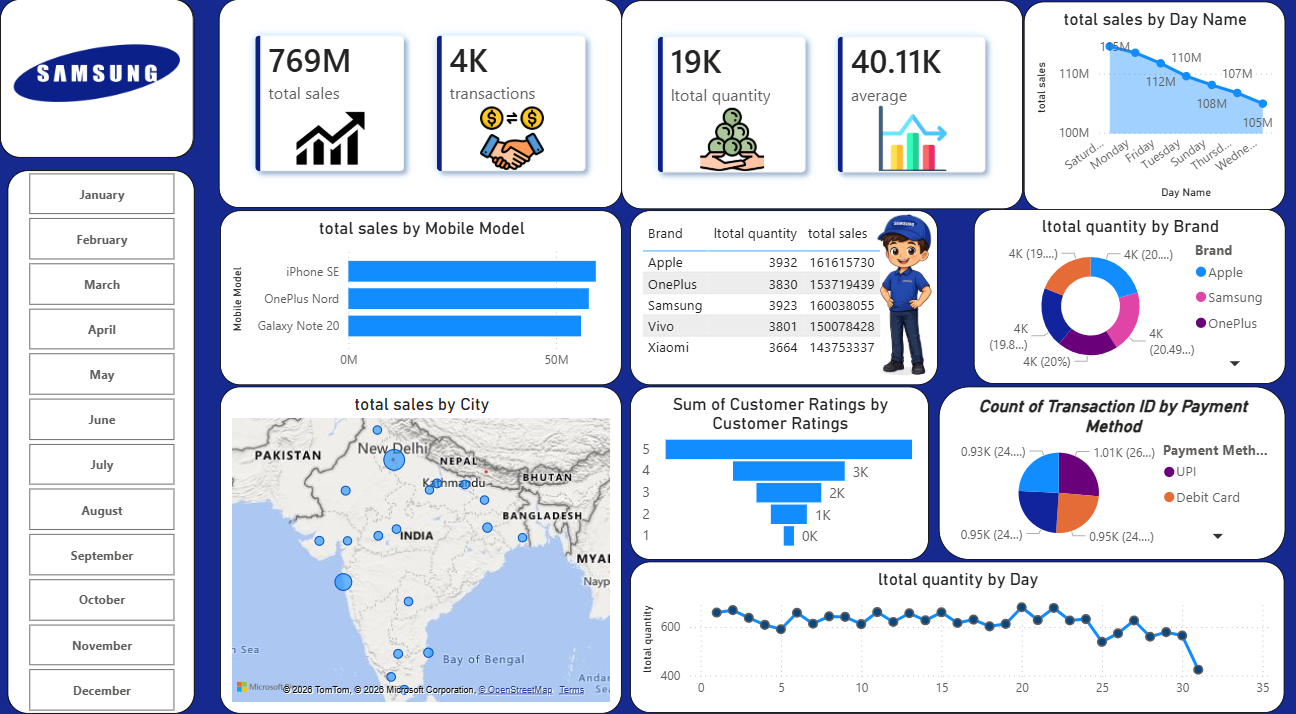

This screenshot's page, from the dashboard's own definition file:
{"tool":"powerbi","page":{"name":"Page 1","canvas":[1280,720],"ordinal":0},"visuals":[{"type":"shape","box":[0,0,191.8,156.8],"z":0},{"type":"image","box":[0,0,191.4,157.1],"z":1000},{"type":"shape","box":[7.2,168.9,184.6,536.9],"z":2000},{"type":"cardVisual","fields":{"Data":["sales data.total sales","sales data.transactions"]},"box":[216,0,398.1,206.3],"z":3000},{"type":"slicer","fields":{"Values":["sales data.Date.Variation.Date Hierarchy.Month"]},"box":[7.2,168.9,184.6,536.9],"z":4000},{"type":"cardVisual","fields":{"Data":["sales data.ltotal quantity","sales data.average"]},"box":[614.1,1.2,396.9,206.3],"z":5000},{"type":"map","fields":{"Category":["sales data.City"],"Size":["sales data.total sales"]},"box":[217.2,382.4,396.9,323.3],"z":6000},{"type":"lineChart","fields":{"Y":["sales data.ltotal quantity"],"Category":["sales data.Date.Variation.Date Hierarchy.Day"]},"box":[622.5,556.2,646.7,149.6],"z":7000},{"type":"barChart","fields":{"Category":["sales data.Mobile Model"],"Y":["sales data.total sales"]},"box":[217.2,208.7,396.9,172.5],"z":8000},{"type":"pieChart","fields":{"Category":["sales data.Payment Method"],"Y":["CountNonNull(sales data.Transaction ID)"]},"box":[926.5,382.4,342.6,171.3],"z":9000},{"type":"funnel","fields":{"Category":["sales data.Customer Ratings"],"Y":["Sum(sales data.Customer Ratings)"]},"box":[622.5,382.4,295.6,171.3],"z":10000},{"type":"areaChart","fields":{"Category":["sales data.Day Name"],"Y":["sales data.total sales"]},"box":[1011,2.4,258.2,206.3],"z":11000},{"type":"tableEx","fields":{"Values":["sales data.Brand","sales data.ltotal quantity","sales data.total sales"]},"box":[622.5,208.7,304,172.5],"z":12000},{"type":"donutChart","fields":{"Y":["sales data.ltotal quantity"],"Category":["sales data.Brand"]},"box":[961.5,207.5,307.6,172.5],"z":13000},{"type":"image","box":[821.6,208.7,139.9,173.7],"z":14000}]}

Visuals, with their boxes in screenshot pixels (x1, y1, x2, y2), scaled from the page's 1280x720 canvas onto the 1296x714 screenshot:
shape: box(0, 0, 194, 155)
image: box(0, 0, 194, 156)
shape: box(7, 167, 194, 700)
cardVisual - sales data.total sales x sales data.transactions: box(219, 0, 622, 205)
slicer - sales data.Date.Variation.Date Hierarchy.Month: box(7, 167, 194, 700)
cardVisual - sales data.ltotal quantity x sales data.average: box(622, 1, 1024, 206)
map - sales data.City x sales data.total sales: box(220, 379, 622, 700)
lineChart - sales data.ltotal quantity x sales data.Date.Variation.Date Hierarchy.Day: box(630, 552, 1285, 700)
barChart - sales data.Mobile Model x sales data.total sales: box(220, 207, 622, 378)
pieChart - sales data.Payment Method x CountNonNull(sales data.Transaction ID): box(938, 379, 1285, 549)
funnel - sales data.Customer Ratings x Sum(sales data.Customer Ratings): box(630, 379, 930, 549)
areaChart - sales data.Day Name x sales data.total sales: box(1024, 2, 1285, 207)
tableEx - sales data.Brand x sales data.ltotal quantity: box(630, 207, 938, 378)
donutChart - sales data.ltotal quantity x sales data.Brand: box(974, 206, 1285, 377)
image: box(832, 207, 974, 379)
